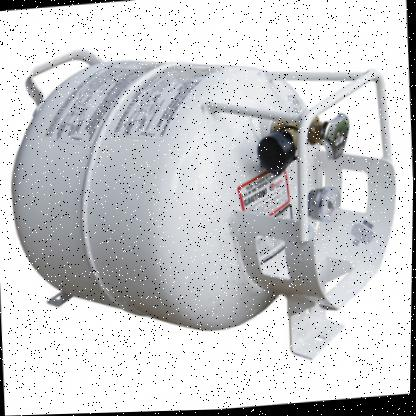gas-tank: (0, 1, 415, 403)
